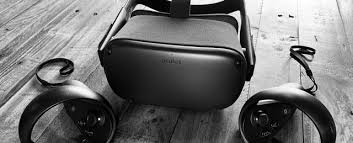oculus: (99, 10, 257, 113)
